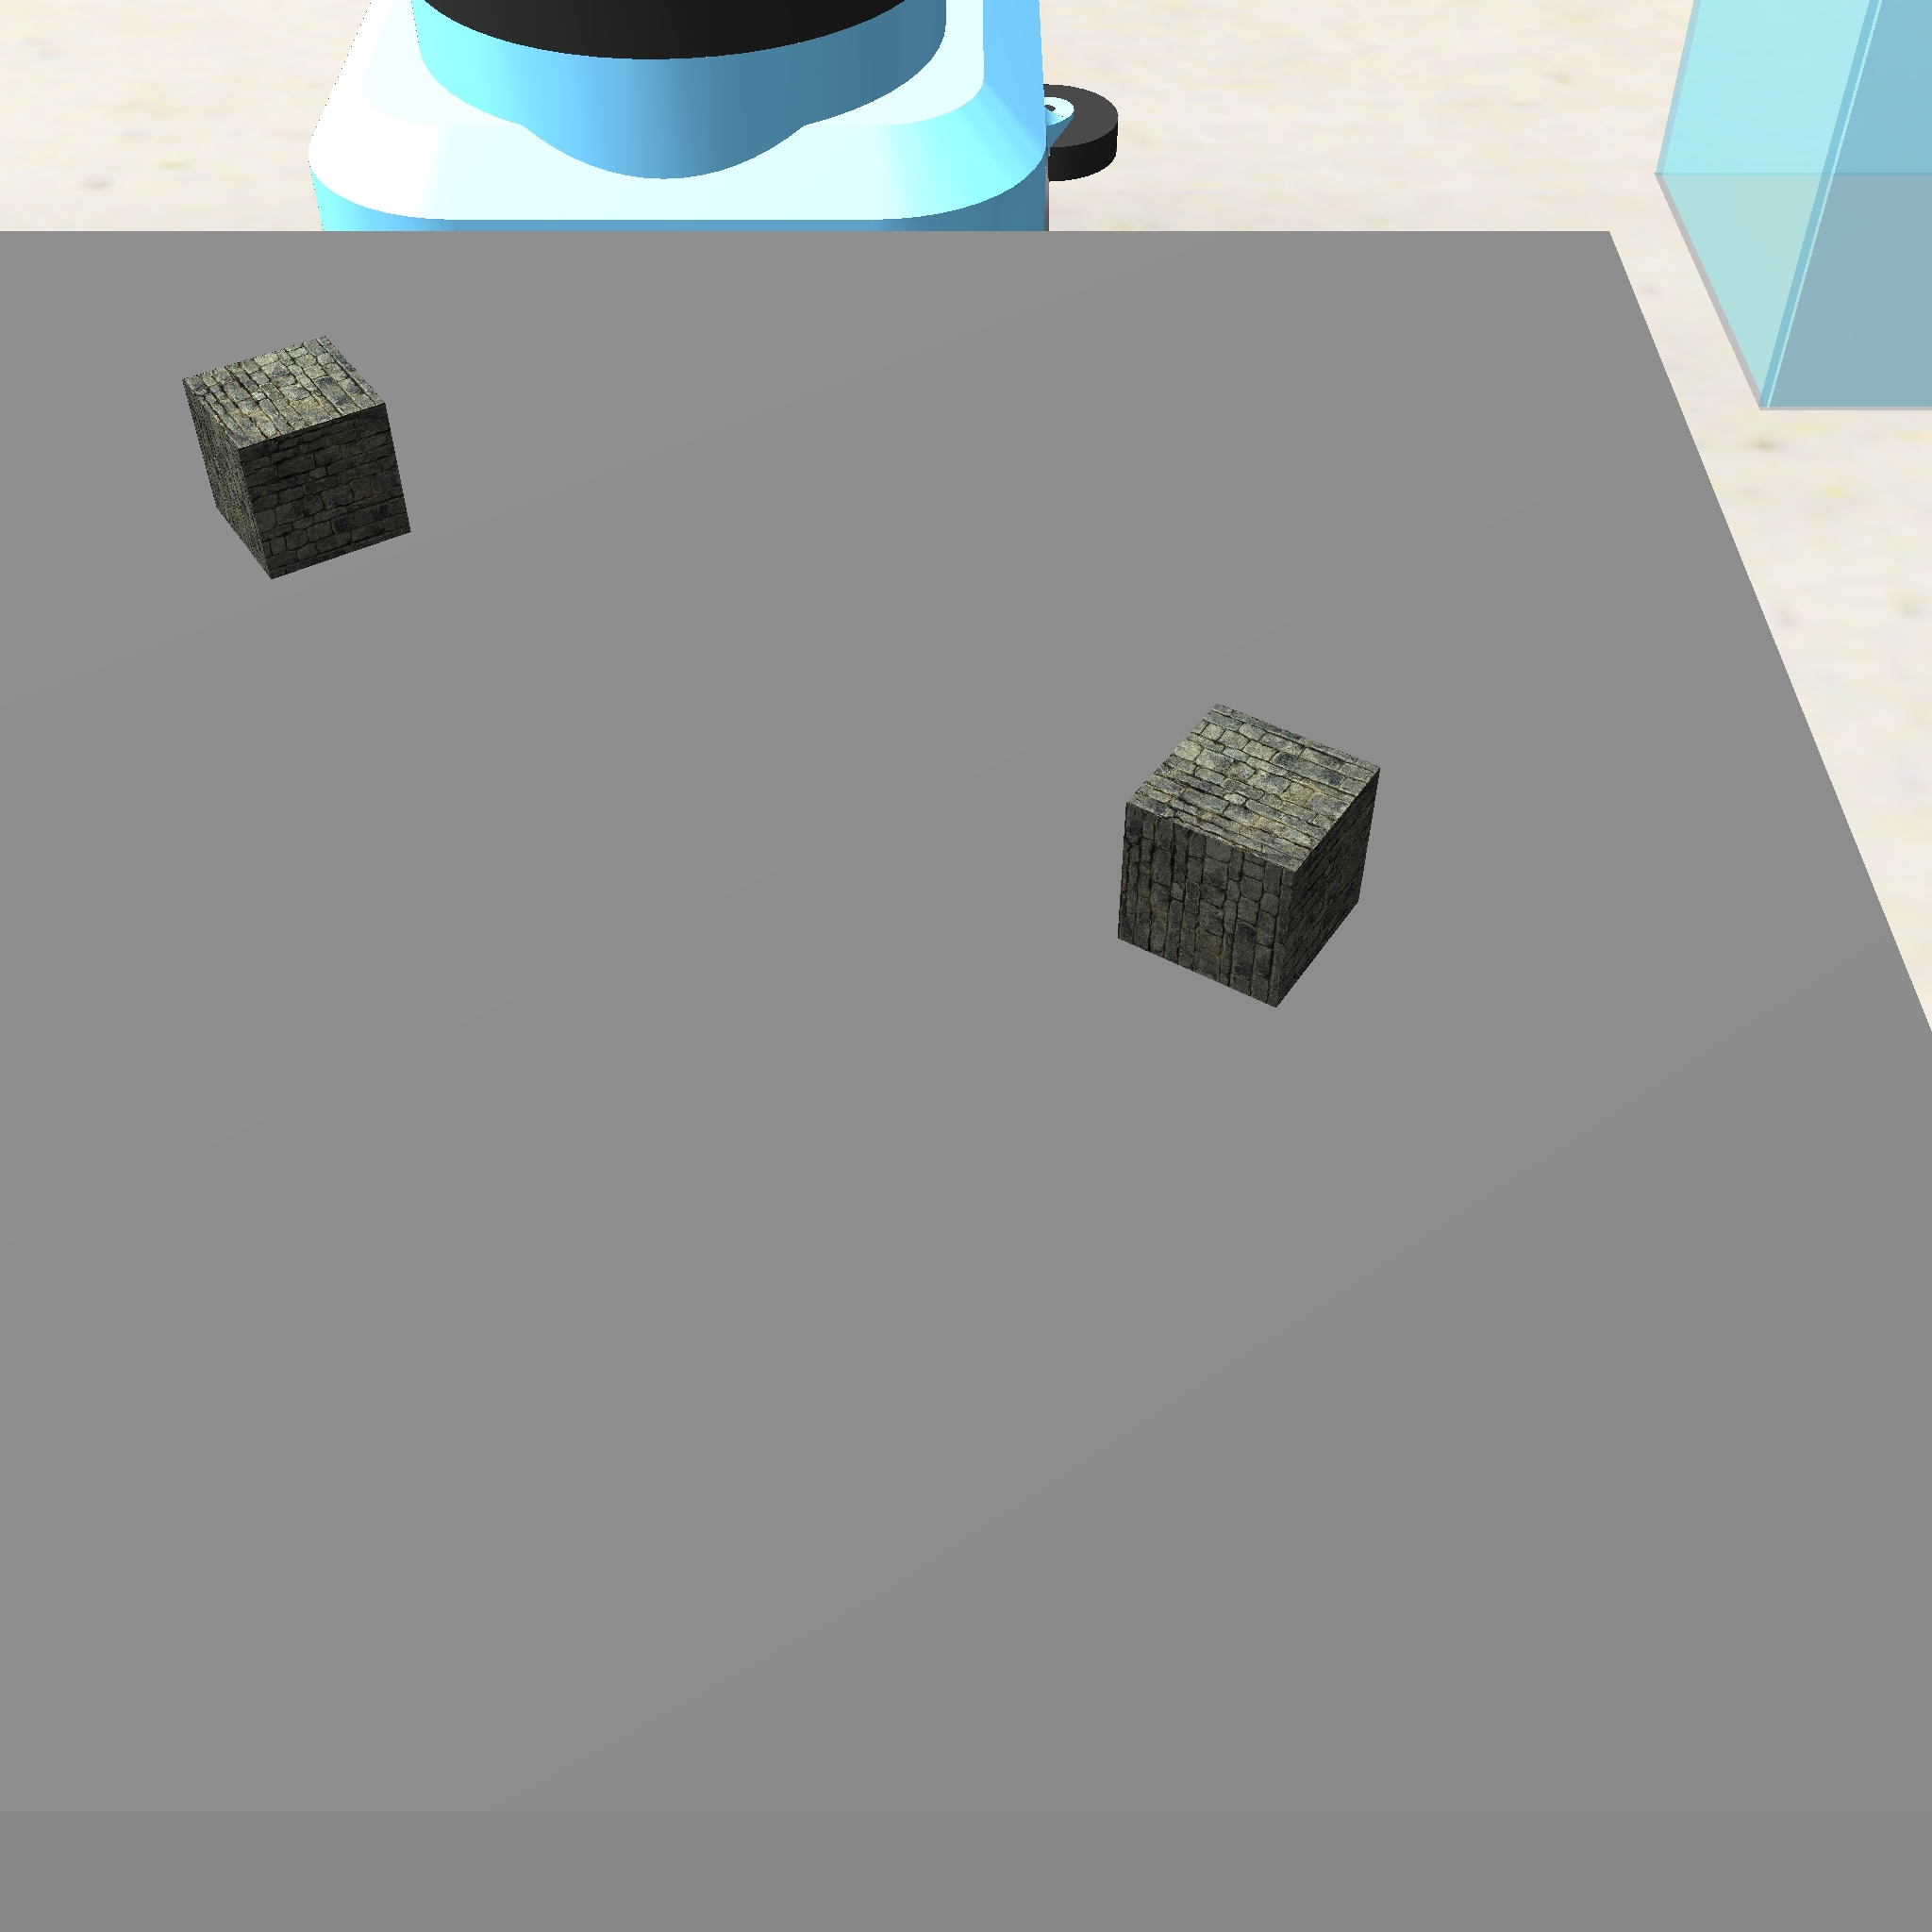cube: (1108, 694, 1387, 1012), (170, 329, 419, 587)
